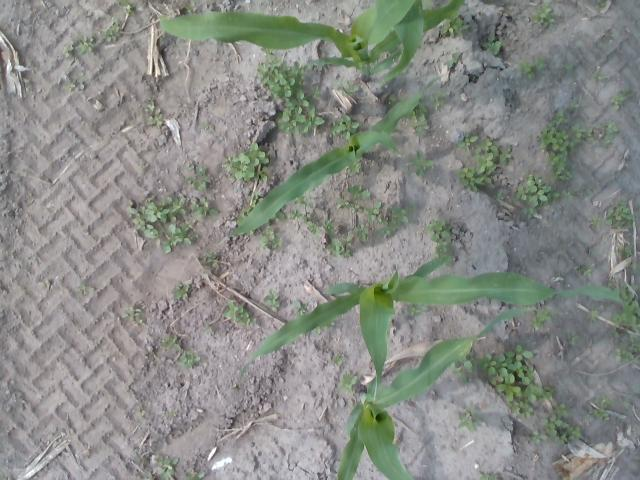Maize: (239, 252, 639, 381), (228, 73, 448, 244), (337, 307, 538, 480), (160, 0, 466, 84)
Weeds: (538, 97, 618, 179), (255, 51, 327, 134), (476, 344, 553, 420), (126, 194, 219, 256), (337, 182, 416, 244), (454, 136, 513, 194), (288, 207, 352, 260), (524, 401, 582, 446), (515, 173, 571, 218), (60, 23, 122, 57), (224, 142, 272, 183), (134, 451, 178, 480), (604, 197, 638, 234), (424, 219, 450, 257), (185, 158, 212, 190), (608, 277, 638, 304), (224, 300, 255, 325), (410, 148, 436, 176), (332, 114, 359, 140), (459, 402, 483, 431), (586, 392, 610, 420), (520, 56, 549, 78), (260, 226, 284, 252), (530, 2, 556, 26), (412, 110, 431, 142), (160, 332, 184, 357), (615, 342, 640, 364), (440, 18, 468, 37), (458, 131, 480, 155), (144, 101, 164, 127), (120, 307, 150, 324), (609, 88, 631, 110), (480, 33, 501, 56), (337, 374, 357, 398), (430, 91, 453, 111), (450, 361, 472, 381), (337, 80, 361, 98), (532, 308, 554, 327), (204, 252, 225, 271), (174, 283, 192, 305), (179, 350, 201, 367), (262, 290, 280, 310), (402, 304, 428, 317), (587, 214, 604, 232), (118, 0, 136, 16), (574, 262, 594, 276), (329, 353, 346, 368), (446, 53, 461, 70), (600, 30, 618, 44), (479, 470, 504, 480), (73, 283, 92, 296), (594, 63, 607, 82), (618, 244, 634, 259), (292, 298, 307, 314), (64, 81, 90, 90), (183, 470, 206, 480), (245, 192, 258, 209), (185, 3, 204, 14), (588, 310, 600, 324), (140, 161, 150, 177), (348, 164, 362, 175), (295, 196, 309, 206), (568, 333, 578, 346), (582, 188, 592, 200), (616, 312, 624, 326), (38, 280, 52, 288), (202, 122, 213, 131), (204, 324, 213, 334), (598, 0, 606, 11), (390, 94, 398, 103), (494, 192, 504, 198), (172, 410, 178, 419), (137, 408, 146, 414), (231, 384, 239, 390), (566, 64, 574, 70)
